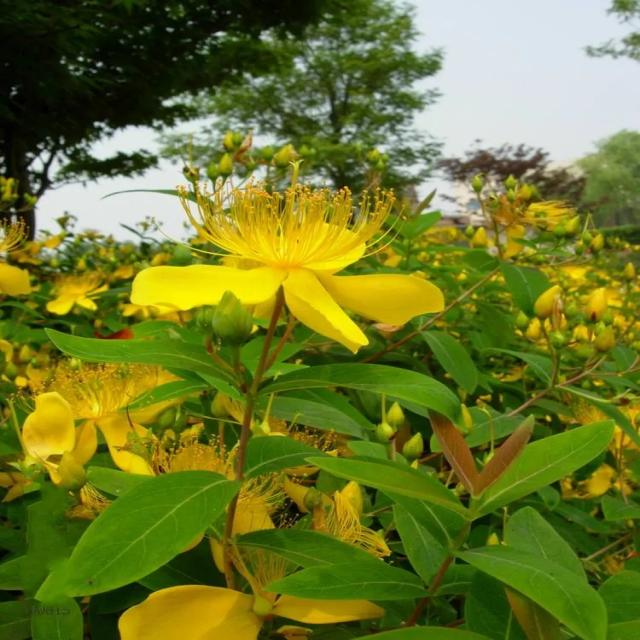jinsitao: (138, 118, 465, 623)
